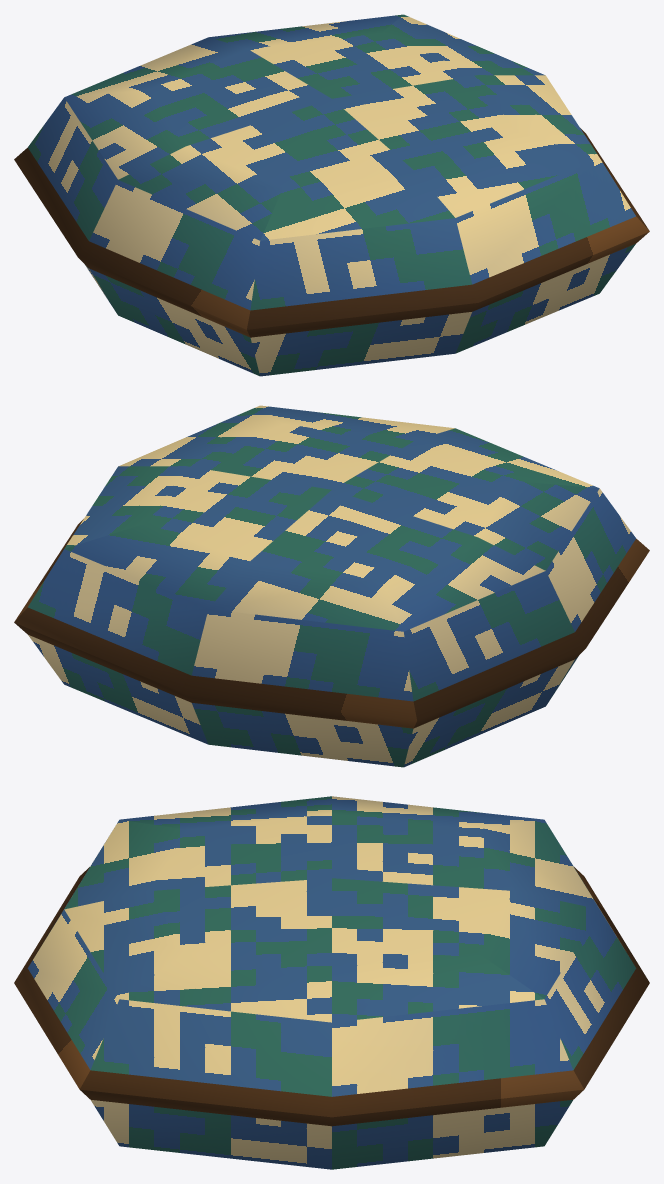
File: soft.pillow.glb
3 renders of one model, top to bottom at view 1: azimuth 30°, elevation 25°; view 2: azimuth 150°, elevation 25°; view 3: azimuth 270°, elevation 25°, orthographic. The views are drawn at different scales.
Parts seen in each view (by area): view 1: kit_pillow; view 2: kit_pillow; view 3: kit_pillow.
Part boxes in pixels (left/top/right/bottom): kit_pillow: left=14, top=14, right=649, bottom=376; kit_pillow: left=14, top=405, right=649, bottom=767; kit_pillow: left=14, top=796, right=649, bottom=1169.
Size of the model in its own units: 0.4703 by 0.1605 by 0.4703.
2 materials, 2 textured.
